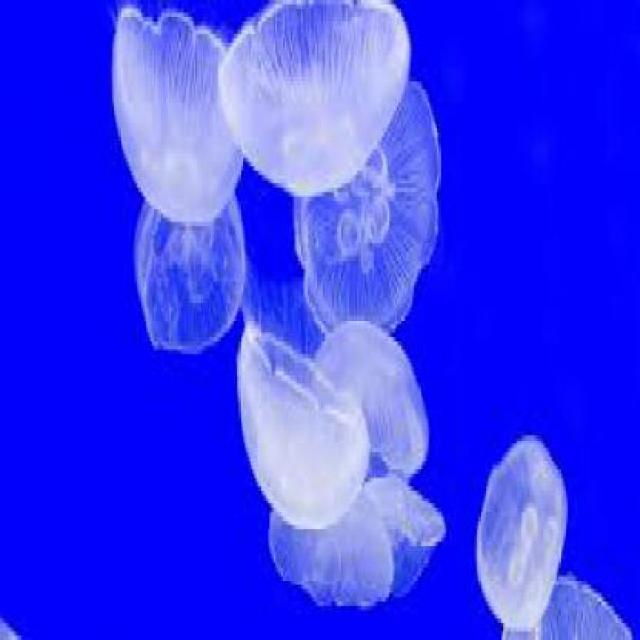Jellyfish: (234, 312, 368, 526)
